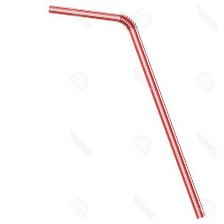drinking_straw: (43, 1, 209, 222)
